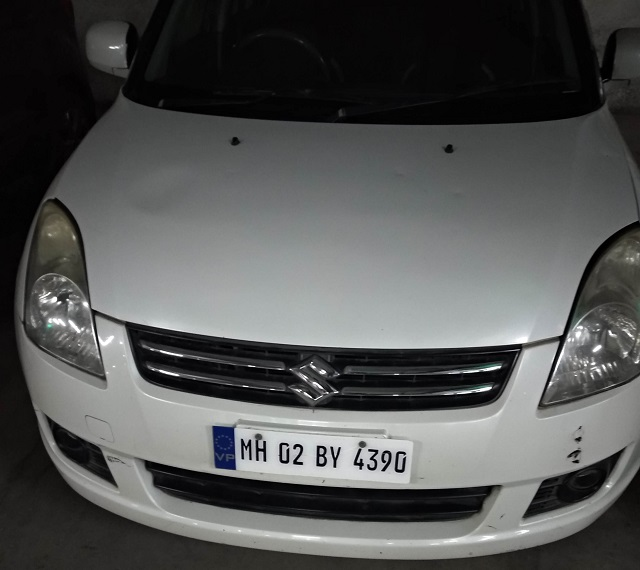licenseplate: (209, 424, 416, 488)
